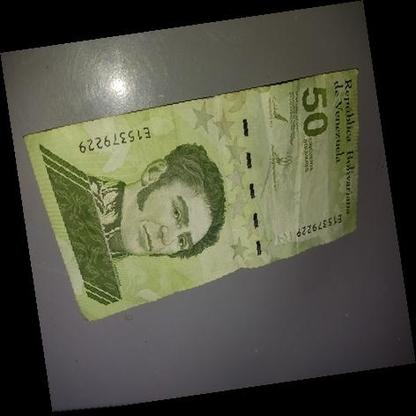fifty-front-vef: (21, 68, 368, 323)
